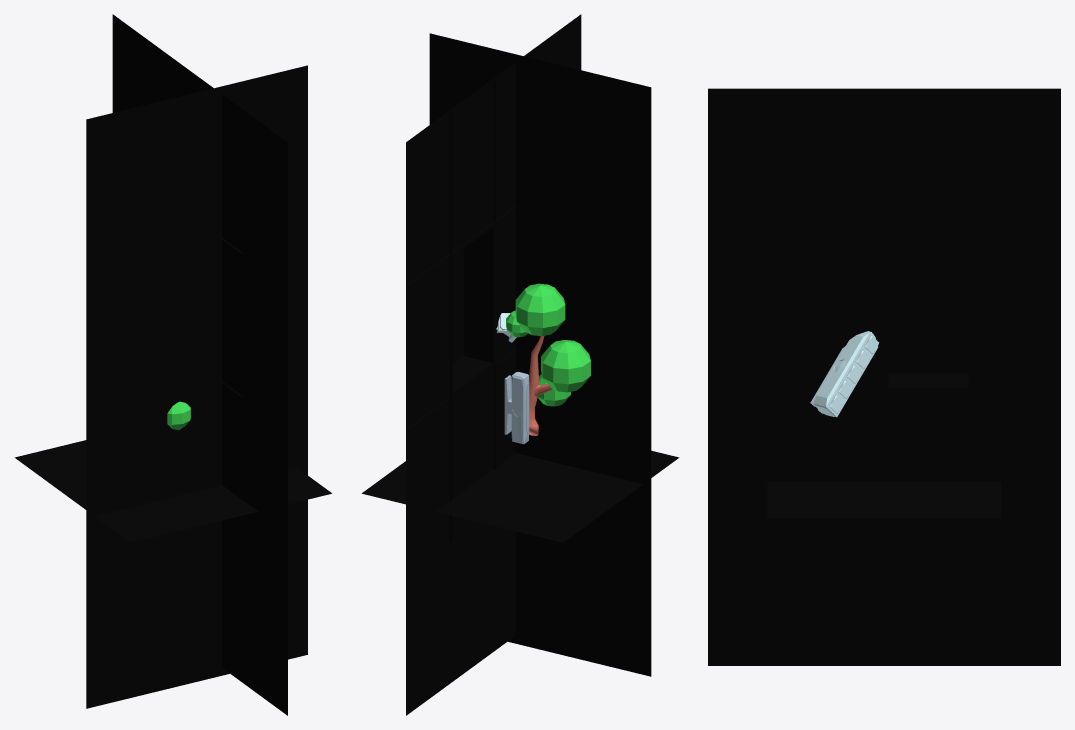
File: 3DTree.glb
3 renders of one model, left to right at view 1: azimuth 30°, elevation 25°; view 2: azimuth 150°, elevation 25°; view 3: azimuth 270°, elevation 25°, orthographic.
Visible parts, largest first — view 1: Plane.002, Sphere.003; view 2: Plane.002, Sphere.003, Cube, Cylinder; view 3: Plane.002, Cube.001.
Boxes of the visible parts, left/top/right/bottom form: Plane.002: left=14, top=14, right=331, bottom=715; Sphere.003: left=167, top=401, right=190, bottom=430; Plane.002: left=362, top=14, right=679, bottom=715; Sphere.003: left=506, top=283, right=590, bottom=406; Cube: left=504, top=372, right=529, bottom=444; Cylinder: left=529, top=335, right=552, bottom=435; Plane.002: left=708, top=88, right=1060, bottom=665; Cube.001: left=810, top=331, right=879, bottom=417.
Size of the model in its own units: 2.2 by 5.58 by 3.01.
